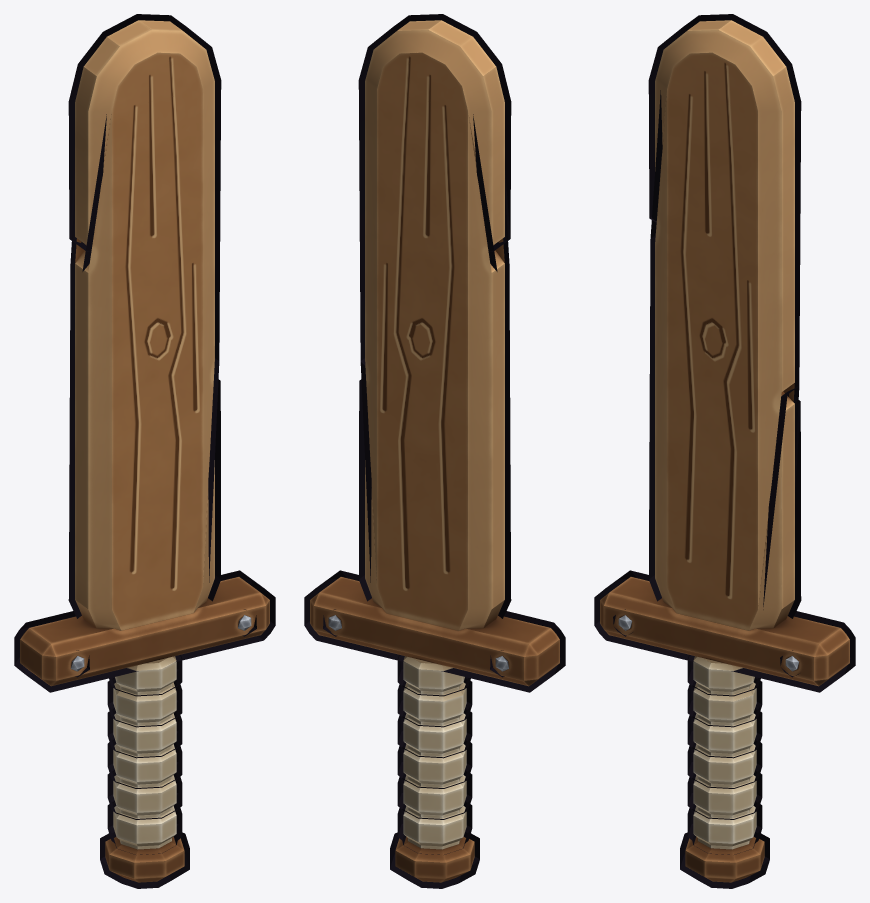
Rendered from WoodenSword.fbx.
3 views of the same model, side by side, from view 1: azimuth 30°, elevation 25°; view 2: azimuth 150°, elevation 25°; view 3: azimuth 330°, elevation 25° (orthographic).
Visible parts, largest first — view 1: WoodenSword, WoodenSwordOutline; view 2: WoodenSword, WoodenSwordOutline; view 3: WoodenSword, WoodenSwordOutline.
Part boxes in pixels (x1,y1,x2,y2): WoodenSword: (20,20,269,882); WoodenSwordOutline: (14,14,275,888); WoodenSword: (310,20,559,882); WoodenSwordOutline: (304,14,565,888); WoodenSword: (600,20,849,882); WoodenSwordOutline: (594,14,855,888).
Bounding box in the file's own units: 93.84 × 325 × 31.99.
2 materials, 1 textured.
